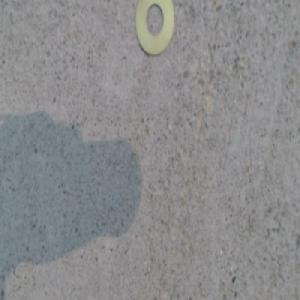Washer: (132, 1, 177, 58)
